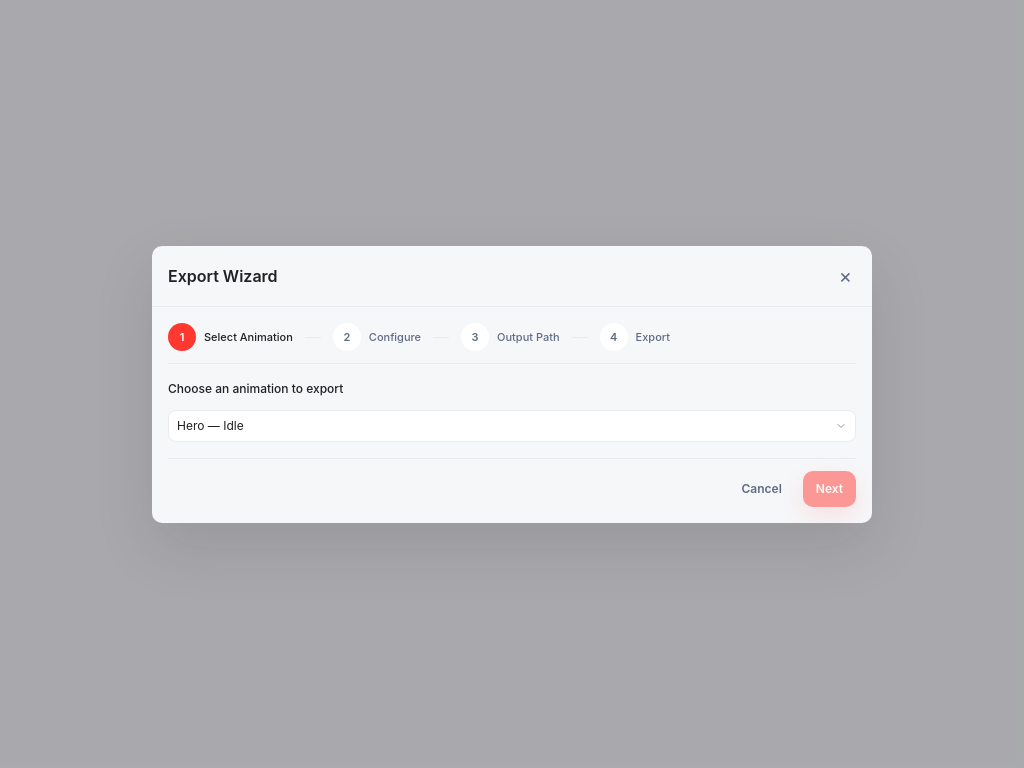
Scenario: ExportWizard Godot export › uses persisted export settings as wizard defaults
The width and height of the screenshot is (1024, 768).
Select "Hero — Idle" in the dropdown at (512, 426), box [168, 410, 856, 442]
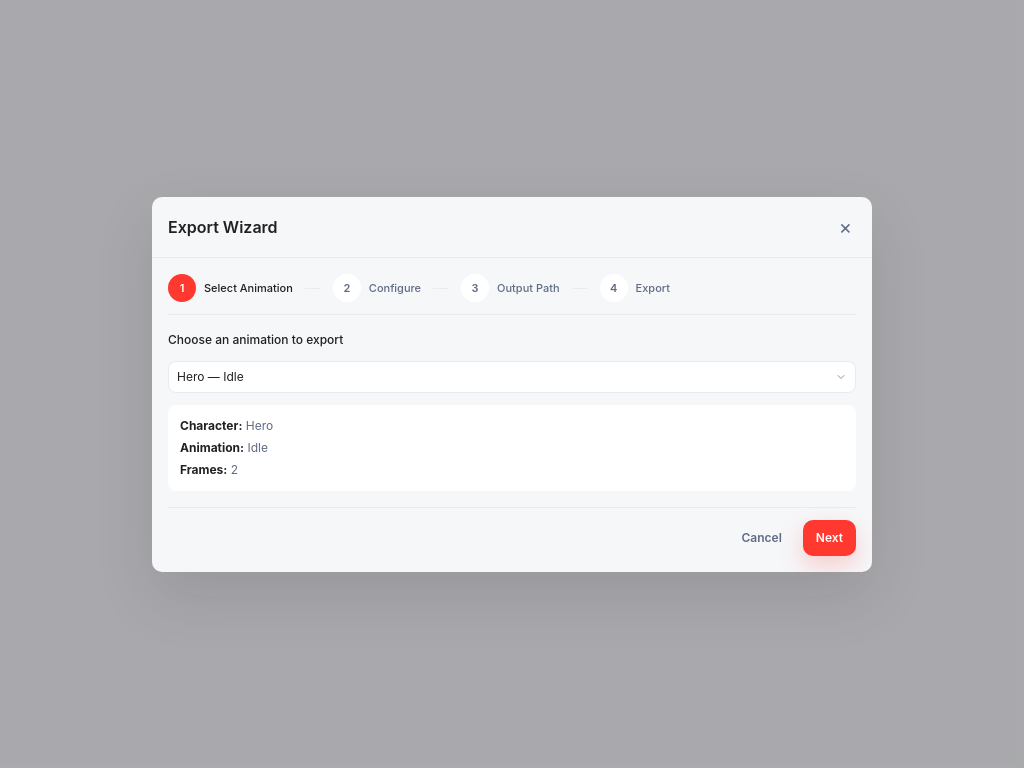
Click the button "Next" at (829, 538), box [803, 520, 856, 556]
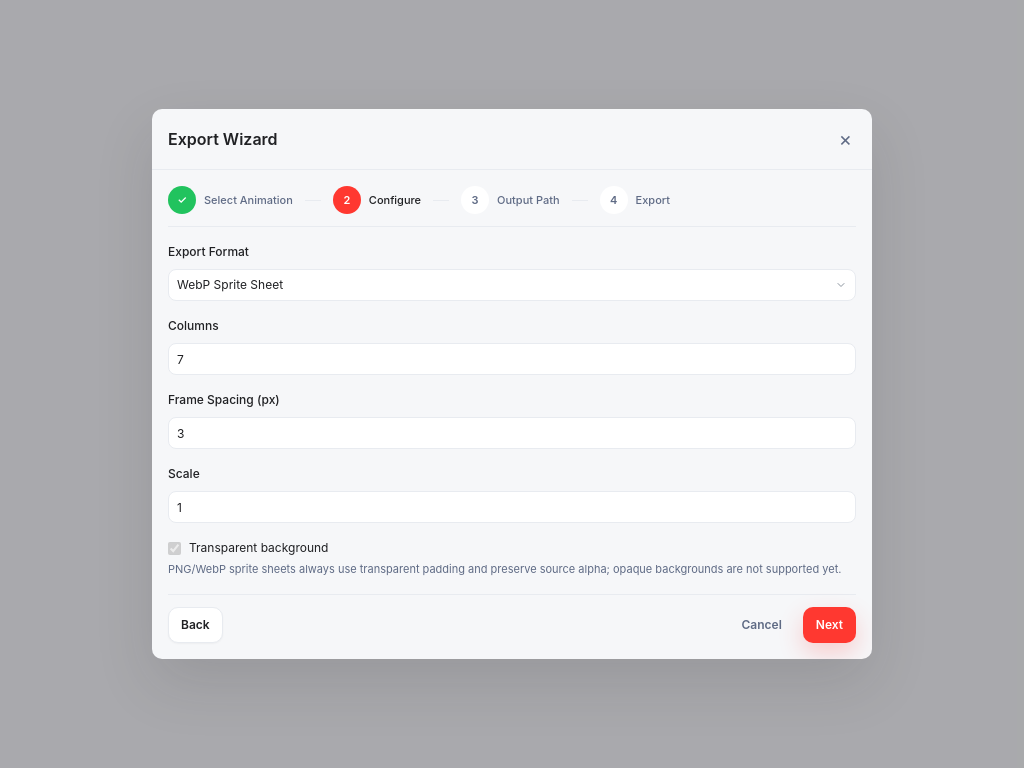
Check: the dropdown shows "WebP Sprite Sheet", box [168, 269, 856, 301]
Check: the number field below "Columns" holds "7", box [168, 343, 856, 375]
Check: the number field below "Frame Spacing (px)" holds "3", box [168, 417, 856, 449]
